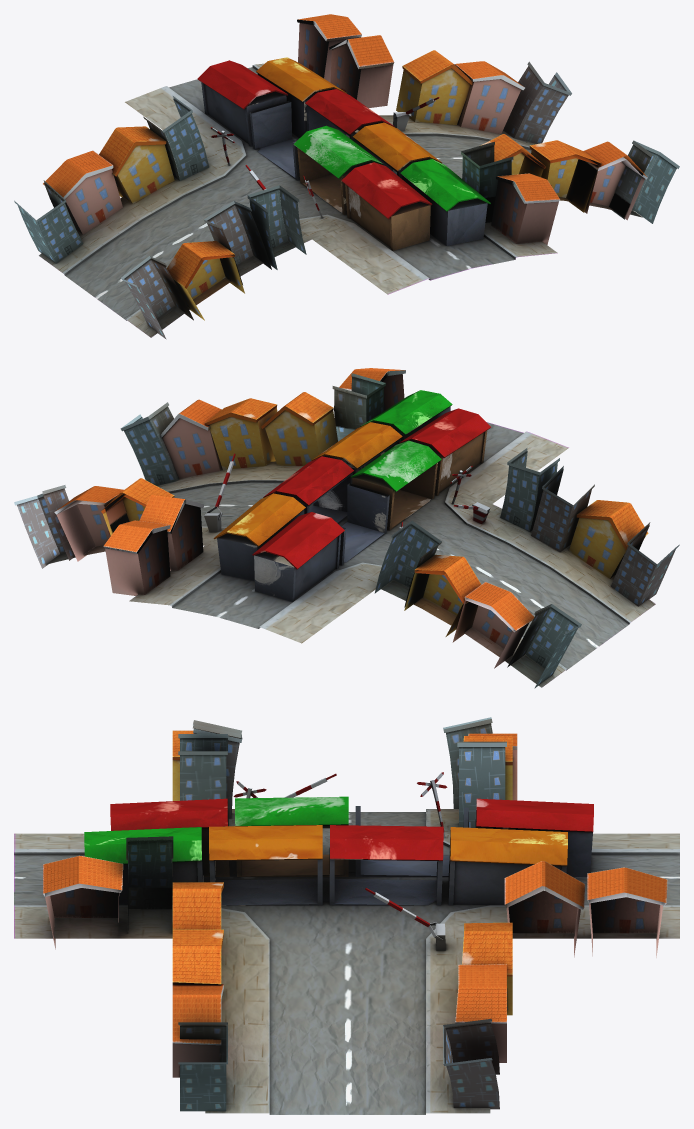
File: modulo_D.FBX
3 views of the same model, one above another, from view 1: azimuth 30°, elevation 25°; view 2: azimuth 150°, elevation 25°; view 3: azimuth 270°, elevation 25° (orthographic). The views are drawn at different scales.
Parts seen in each view (by area): view 1: modulo_D; view 2: modulo_D; view 3: modulo_D.
Boxes of the visible parts, bbox=[...] form: modulo_D: bbox=[14, 14, 679, 339]; modulo_D: bbox=[14, 368, 679, 688]; modulo_D: bbox=[14, 717, 679, 1114].
Bounding box in the file's own units: 222 × 49.43 × 186.
